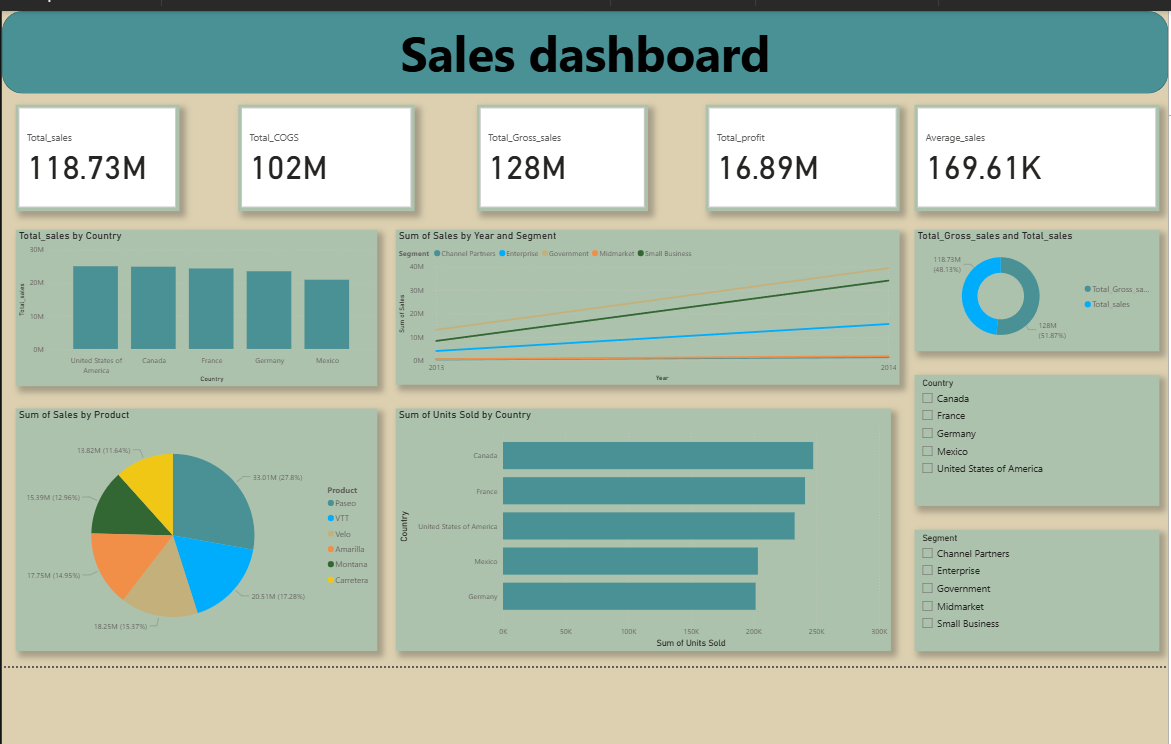

Layout of this report page (visuals, bound fields, positions):
{"tool":"powerbi","page":{"name":"Page 1","canvas":[1920,1080],"ordinal":0},"visuals":[{"type":"shape","box":[0,0,1920.4,135.8],"z":0},{"type":"cardVisual","fields":{"Data":["Sheet1.Total_sales"]},"box":[22.6,154.4,269.6,175],"z":1000},{"type":"cardVisual","fields":{"Data":["Sheet1.Total_COGS"]},"box":[389,154.4,290.2,175],"z":2000},{"type":"cardVisual","fields":{"Data":["Sheet1.Total_Gross_sales"]},"box":[782.2,154.4,282,175],"z":3000},{"type":"cardVisual","fields":{"Data":["Sheet1.Total_profit"]},"box":[1158.8,154.4,319,175],"z":4000},{"type":"cardVisual","fields":{"Data":["Sheet1.Average_sales"]},"box":[1502.6,154.4,403.4,175],"z":5000},{"type":"clusteredColumnChart","fields":{"Category":["Sheet1.Country"],"Y":["Sheet1.Total_sales"]},"box":[22.6,360.2,594.9,257.3],"z":6000},{"type":"lineChart","fields":{"Category":["Sheet1.Date.Variation.Date Hierarchy.Year","Sheet1.Date.Variation.Date Hierarchy.Quarter","Sheet1.Date.Variation.Date Hierarchy.Month","Sheet1.Date.Variation.Date Hierarchy.Day"],"Series":["Sheet1.Segment"],"Y":["Sum(Sheet1. Sales)"]},"box":[648.4,360.2,829.5,255.2],"z":7000},{"type":"pieChart","fields":{"Category":["Sheet1.Product"],"Y":["Sum(Sheet1. Sales)"]},"box":[22.6,654.5,594.9,399.3],"z":8000},{"type":"clusteredBarChart","fields":{"Y":["Sum(Sheet1.Units Sold)"],"Category":["Sheet1.Country"]},"box":[648.4,654.5,815.1,399.3],"z":9000},{"type":"slicer","fields":{"Values":["Sheet1.Country"]},"box":[1502.6,599,403.4,216.1],"z":10000},{"type":"slicer","fields":{"Values":["Sheet1.Segment"]},"box":[1502.6,854.2,403.4,199.7],"z":11000},{"type":"donutChart","fields":{"Y":["Sheet1.Total_Gross_sales","Sheet1.Total_sales"]},"box":[1502.6,360.2,403.4,199.7],"z":12000}]}

Visuals, with their boxes in screenshot pixels (x1, y1, x2, y2):
shape: (left=0, top=6, right=1170, bottom=91)
cardVisual - Sheet1.Total_sales: (left=0, top=102, right=167, bottom=212)
cardVisual - Sheet1.Total_COGS: (left=227, top=102, right=408, bottom=212)
cardVisual - Sheet1.Total_Gross_sales: (left=473, top=102, right=648, bottom=212)
cardVisual - Sheet1.Total_profit: (left=707, top=102, right=906, bottom=212)
cardVisual - Sheet1.Average_sales: (left=922, top=102, right=1170, bottom=212)
clusteredColumnChart - Sheet1.Country x Sheet1.Total_sales: (left=0, top=231, right=370, bottom=391)
lineChart - Sheet1.Date.Variation.Date Hierarchy.Year x Sheet1.Date.Variation.Date Hierarchy.Quarter: (left=389, top=231, right=906, bottom=390)
pieChart - Sheet1.Product x Sum(Sheet1. Sales): (left=0, top=414, right=370, bottom=663)
clusteredBarChart - Sum(Sheet1.Units Sold) x Sheet1.Country: (left=389, top=414, right=897, bottom=663)
slicer - Sheet1.Country: (left=922, top=380, right=1170, bottom=514)
slicer - Sheet1.Segment: (left=922, top=539, right=1170, bottom=663)
donutChart - Sheet1.Total_Gross_sales x Sheet1.Total_sales: (left=922, top=231, right=1170, bottom=355)
